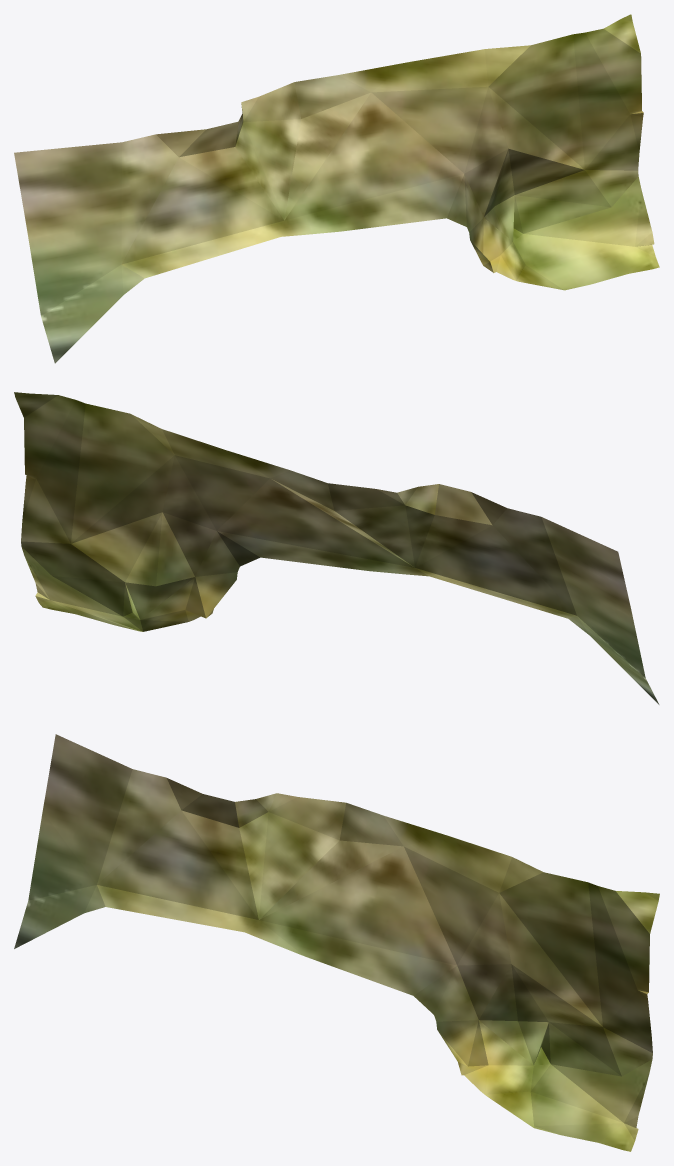
3 renders of one model, top to bottom at view 1: azimuth 30°, elevation 25°; view 2: azimuth 150°, elevation 25°; view 3: azimuth 330°, elevation 25°, orthographic.
Bounding box in the file's own units: 1.67 × 0.6152 × 0.2073.
1 material, 1 textured.
